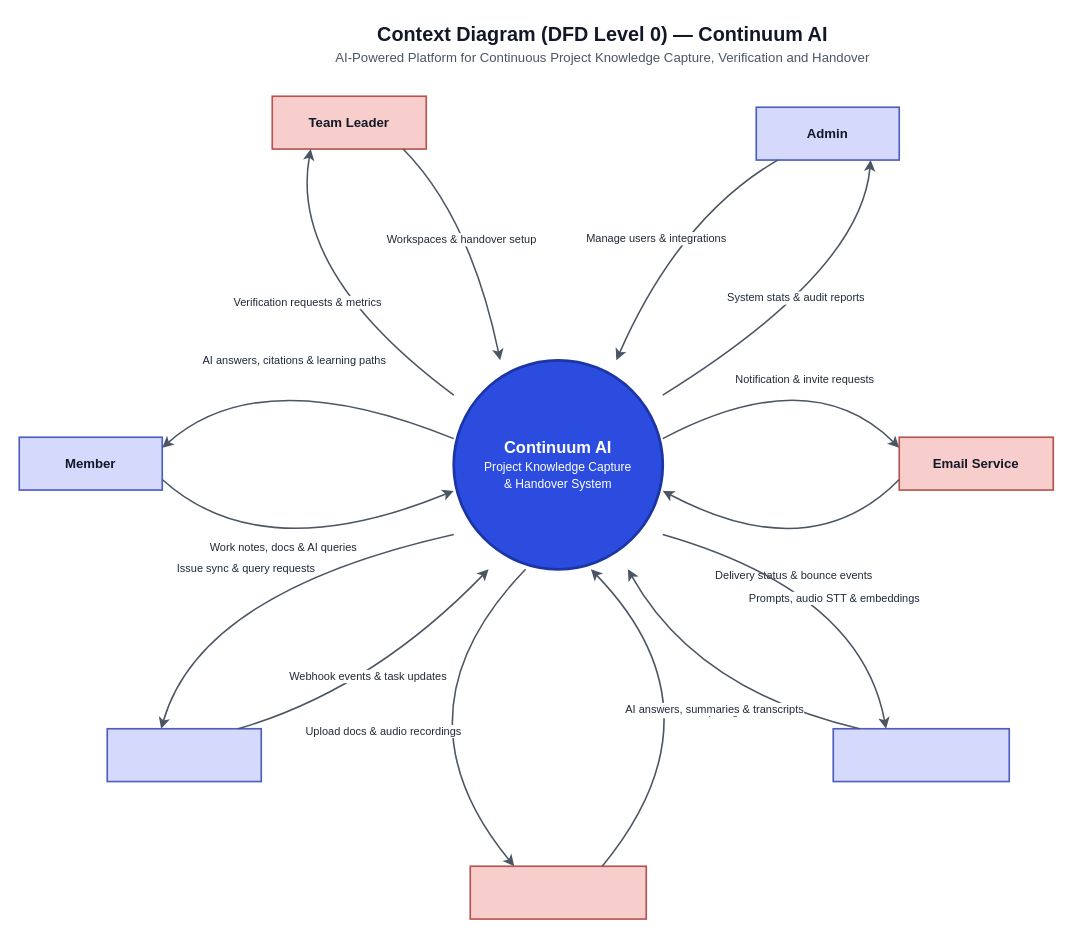
Image size: 1074x938. Some labels were removed from this diagram. Each missing label, with the centre of its shape:
Cloudflare R2: (558,892)
Jira Cloud API: (184,754)
LLM Providers: (921,754)
